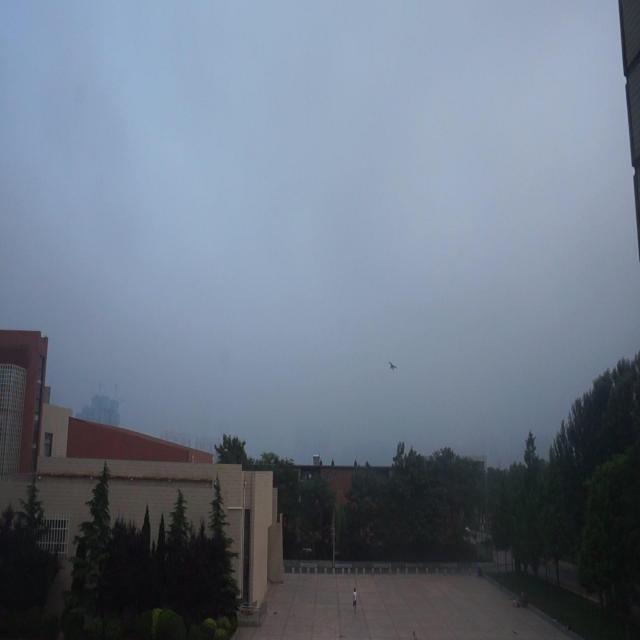UAV: (388, 361, 398, 370)
